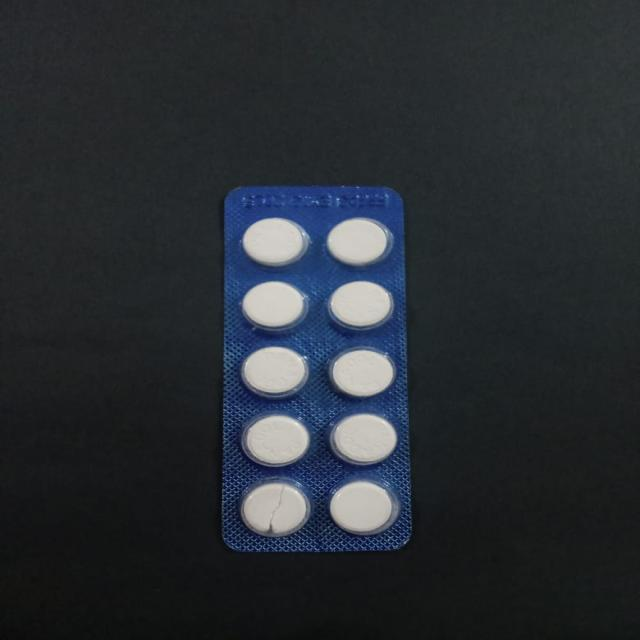defect: (235, 474, 317, 542)
